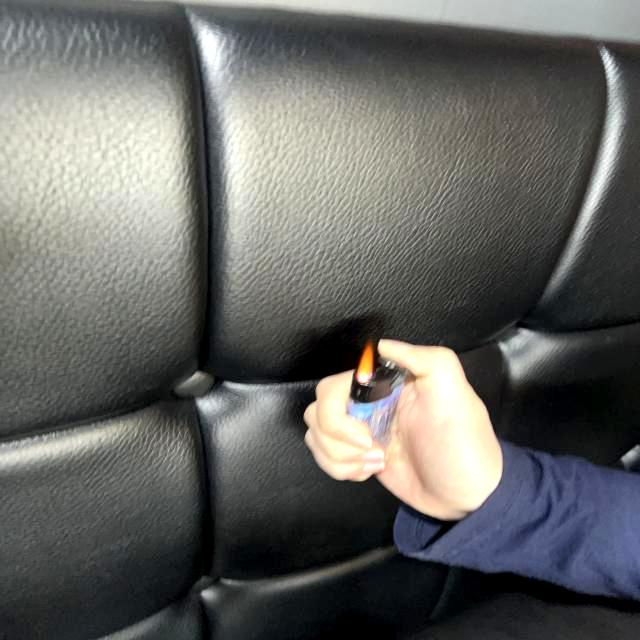fire: (358, 348, 376, 384)
